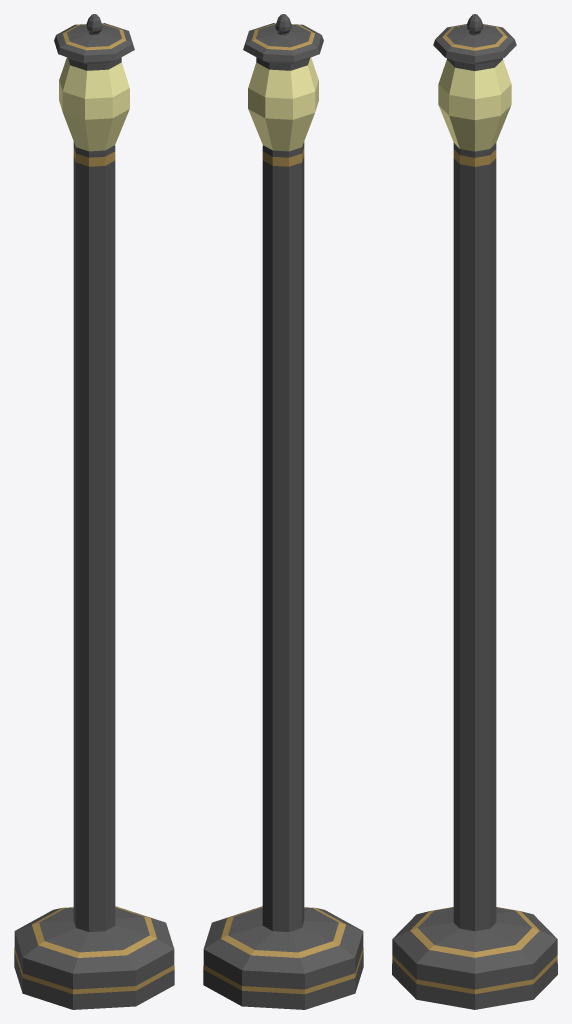
Rendered from Street Lamp (low poly).fbx.
The picture shows the model from 3 angles, left to right: view 1: azimuth 30°, elevation 25°; view 2: azimuth 150°, elevation 25°; view 3: azimuth 270°, elevation 25°; orthographic projection.
Parts seen in each view (by area): view 1: Cylinder; view 2: Cylinder; view 3: Cylinder.
Part boxes in pixels (box(x1,y1,x2,y2)): Cylinder: box(14, 14, 174, 1009); Cylinder: box(203, 14, 363, 1009); Cylinder: box(392, 14, 557, 1009).
Size of the model in its own units: 84.12 by 537 by 84.12.
